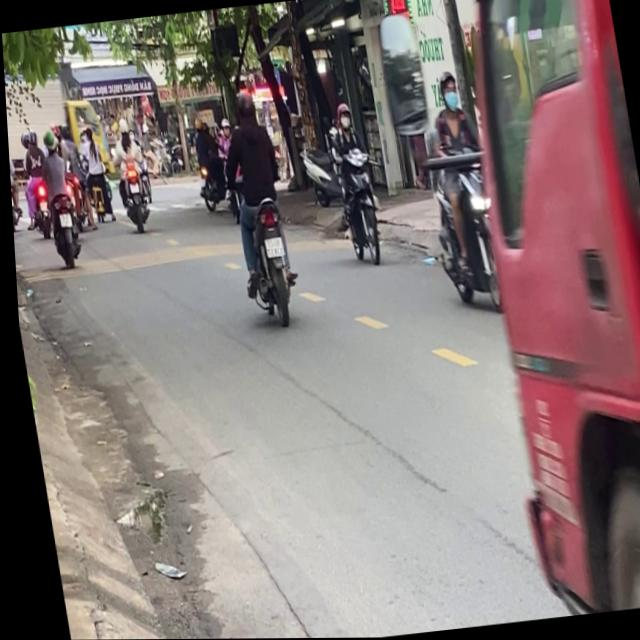helmet: (434, 67, 460, 111), (232, 86, 256, 122), (333, 100, 352, 129)
licenseplate: (404, 63, 508, 317), (209, 82, 303, 325), (319, 96, 387, 265)
nohelmet: (259, 234, 280, 256)
